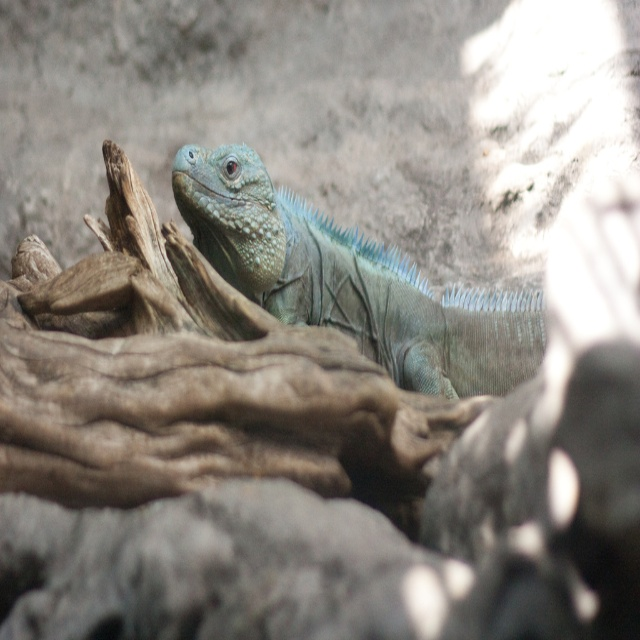Lizard: (202, 135, 582, 440)
